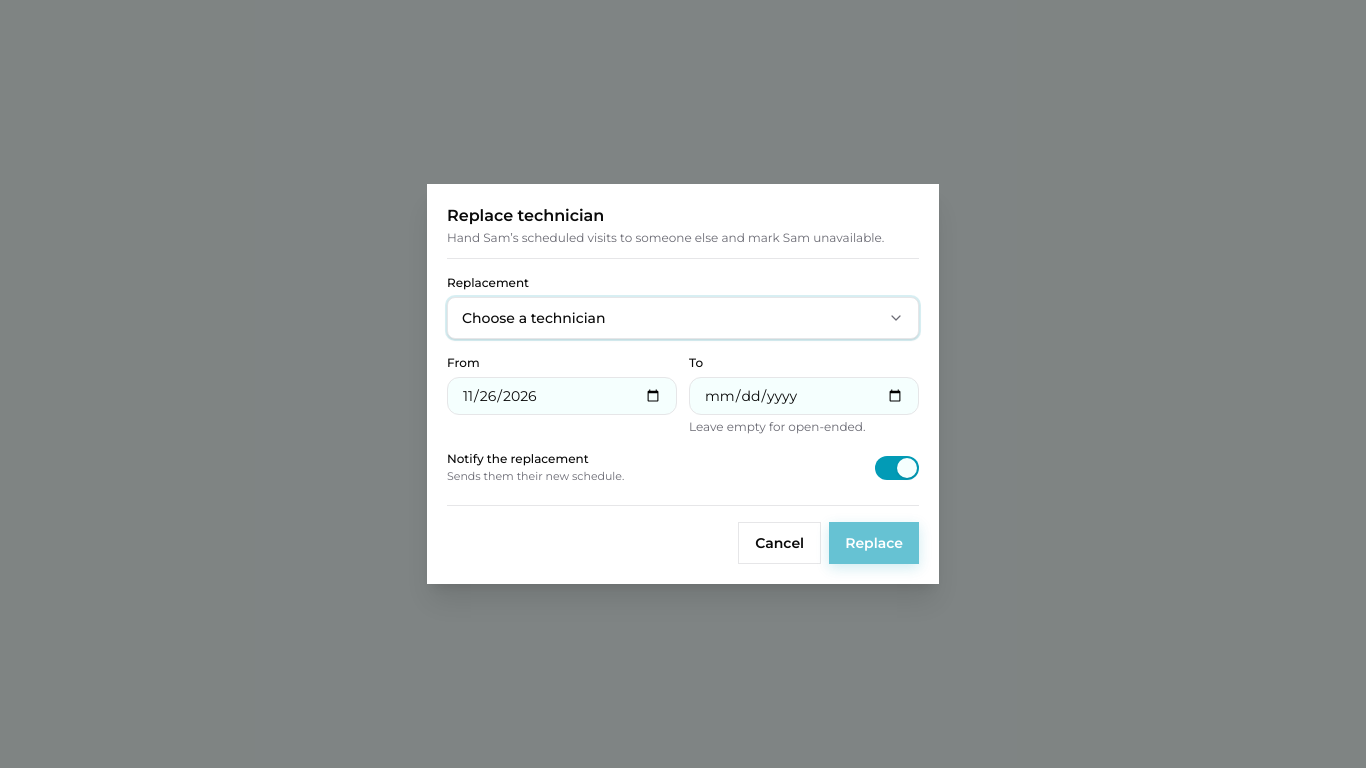
Scenario: ReplaceTechnicianModal (GAP-030) › reassigns visits to the chosen technician
Expected: the date field named "From" holds "2026-11-26", [447,377,677,415]
Expected: the button "Replace" is disabled, [829,522,919,564]
Click the button with aria-label "Replacement".
click(534, 318)  # box [447,297,919,339]
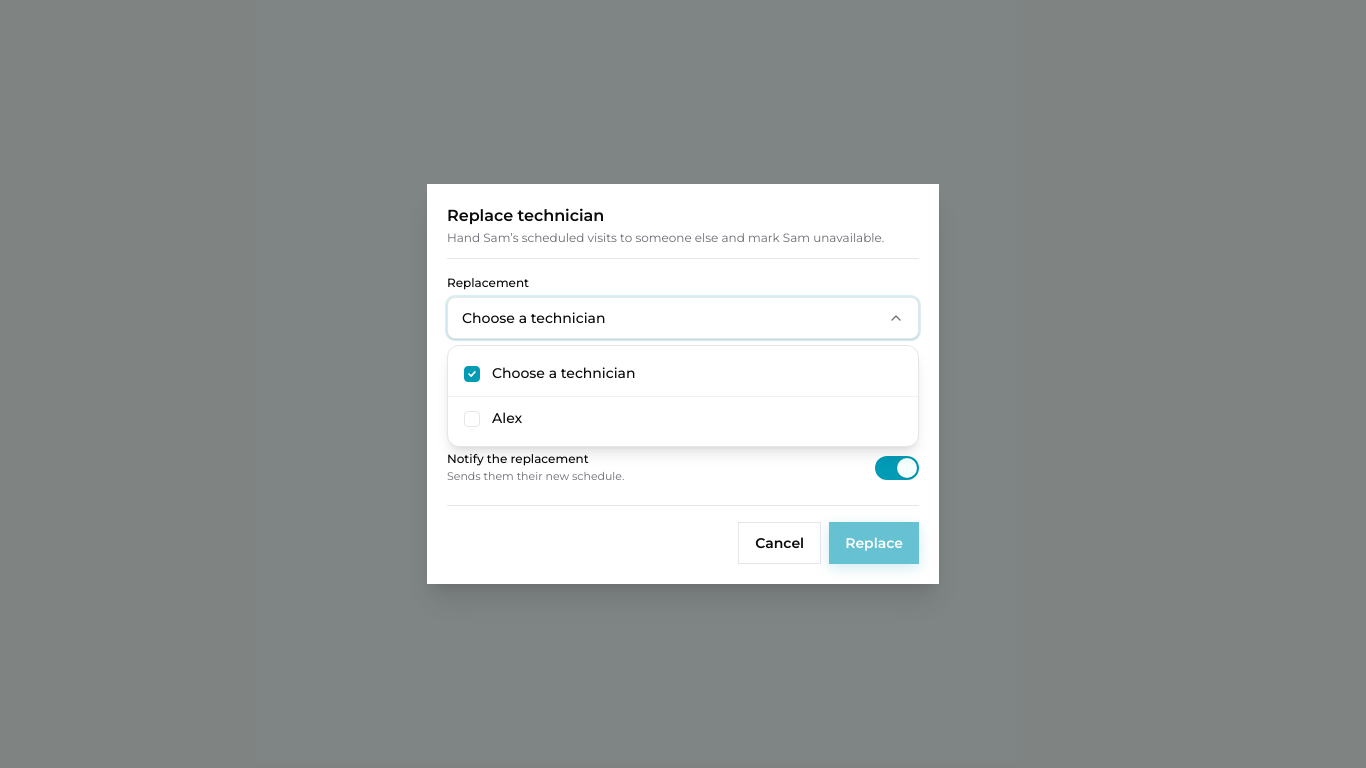
Click the option "Alex".
click(507, 418)  # box [448,397,918,440]
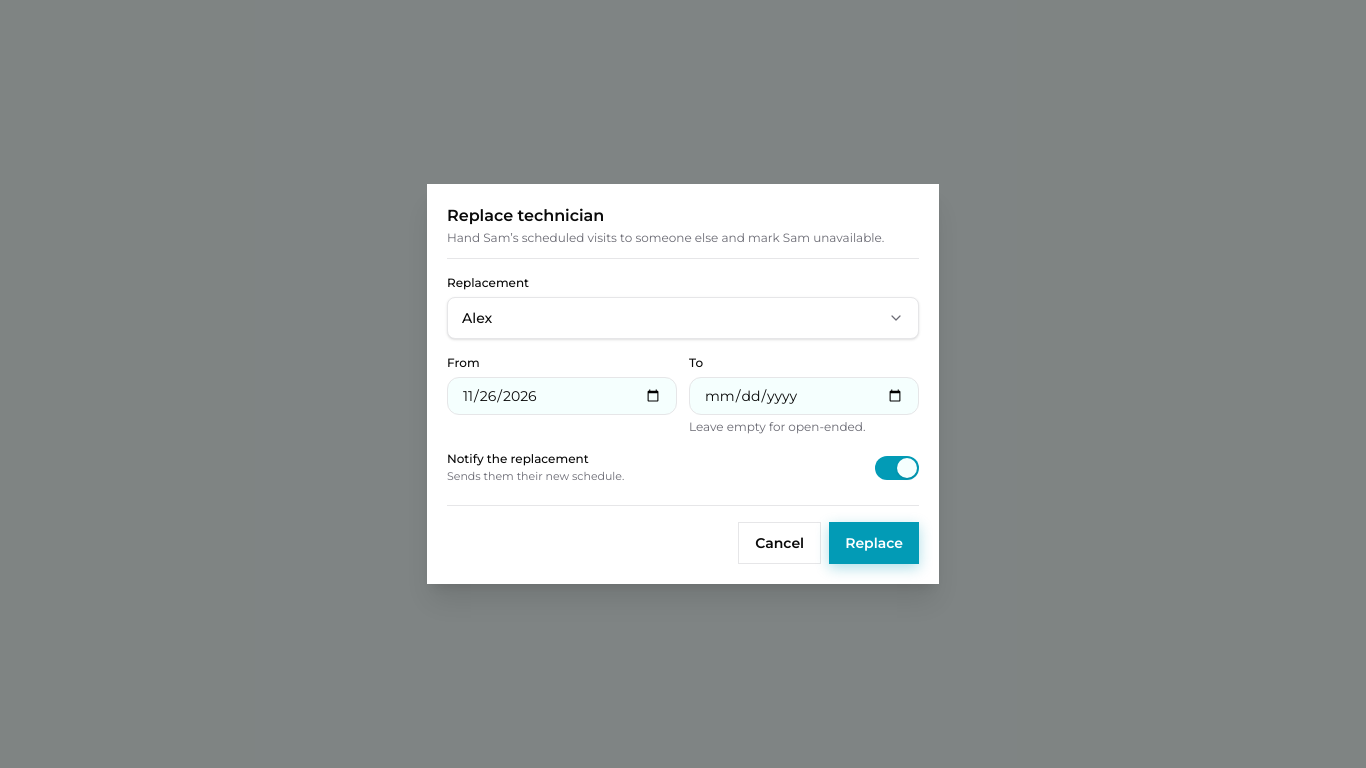
Type "2026-11-02" into the date field named "From".
click(562, 396); type("2026-11-02")  # box [447,377,677,415]
Type "2026-11-06" into the date field named "To".
click(804, 396); type("2026-11-06")  # box [689,377,919,415]
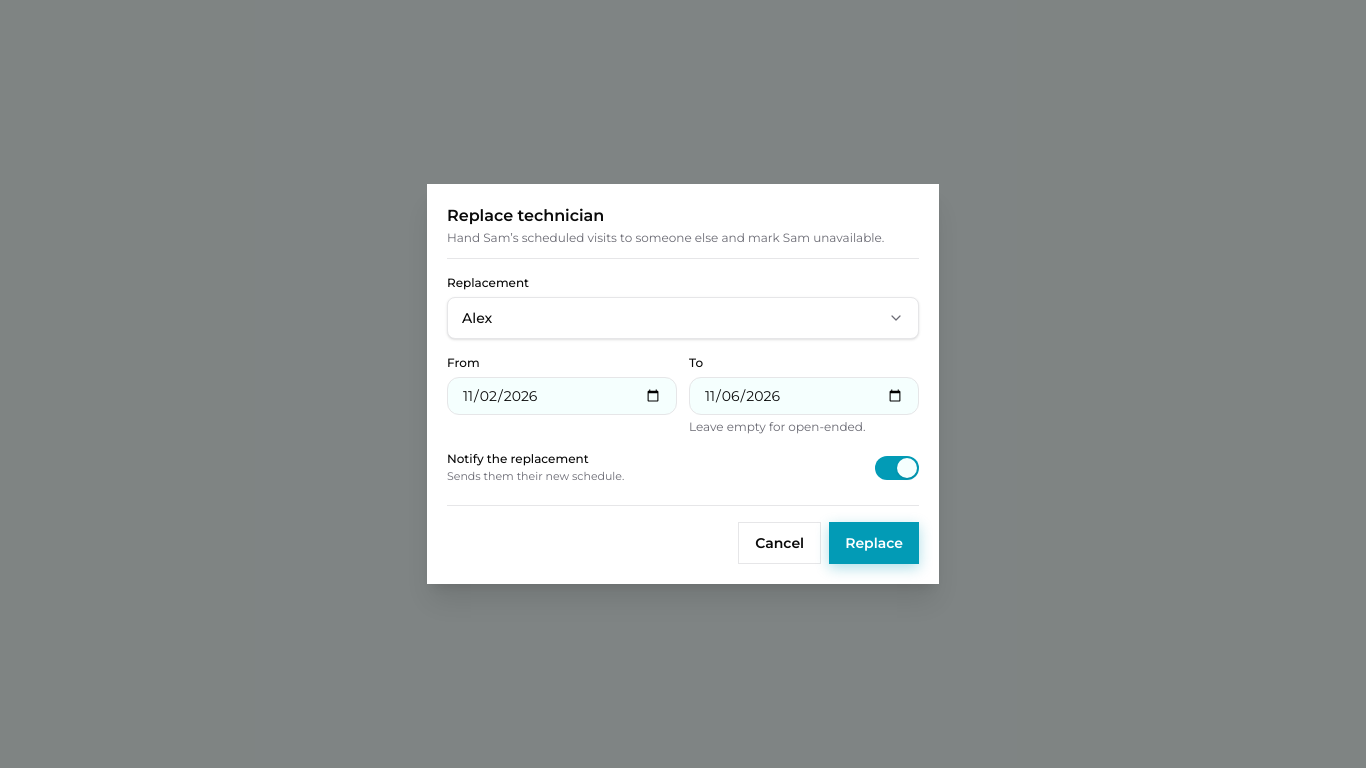
Click the switch named "Notify the replacement".
click(897, 468)  # box [875,456,919,480]
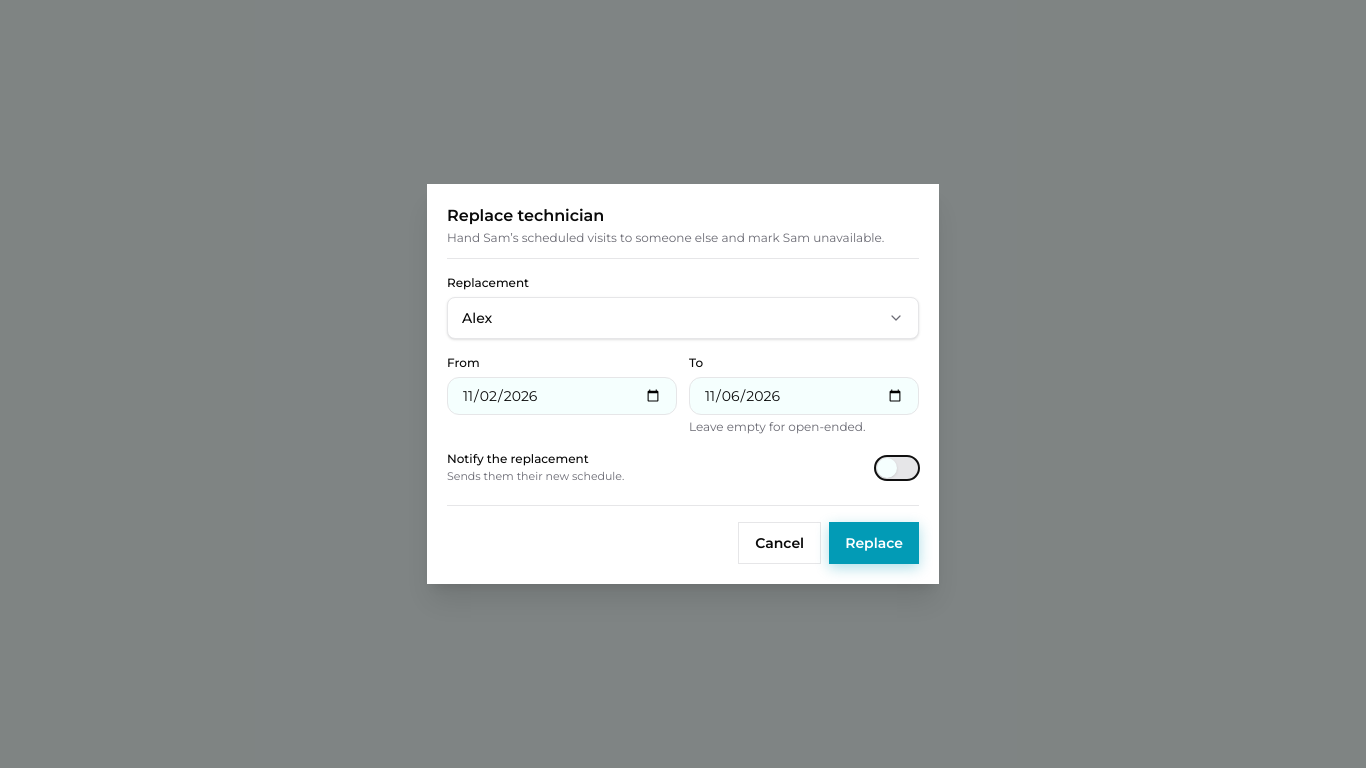
Click the button "Replace".
click(874, 543)  # box [829,522,919,564]
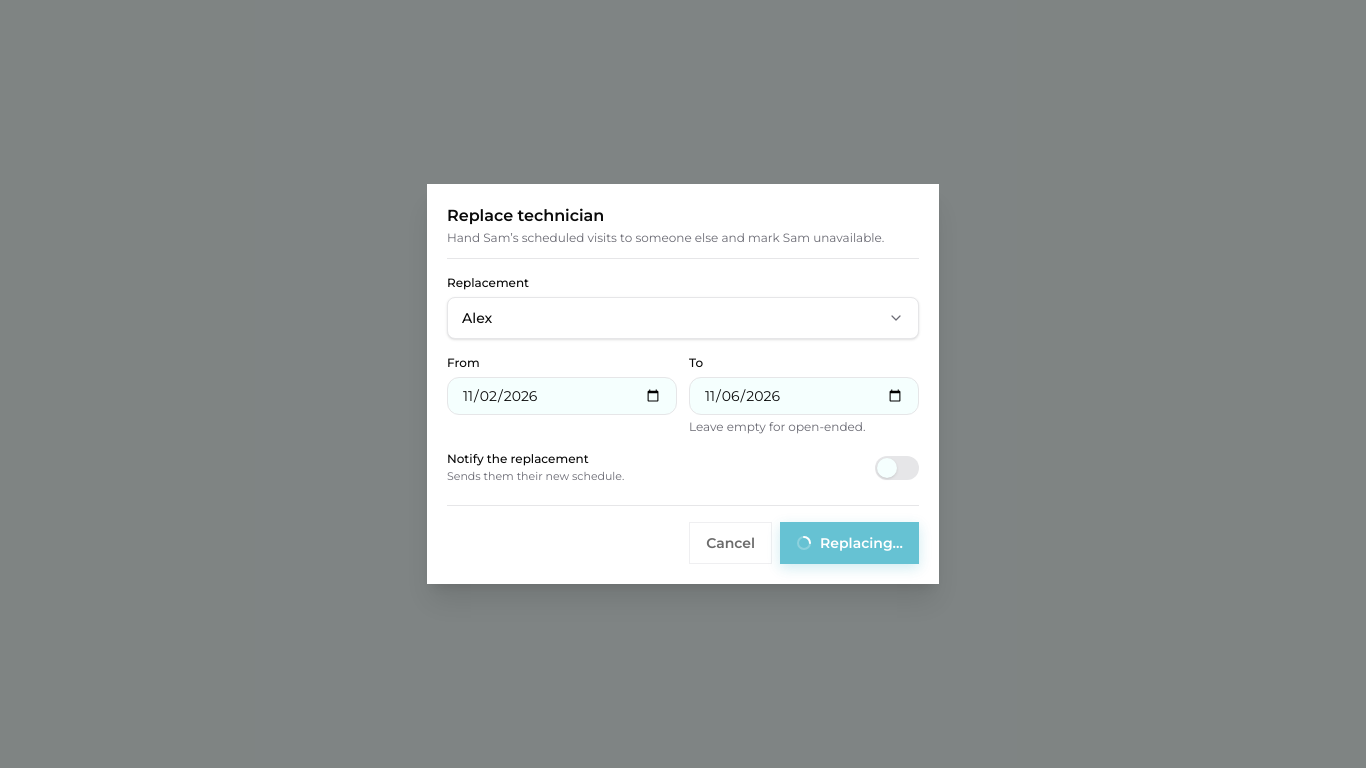
Expected: the button "Replacing…" is shown, [780,522,919,564]
Press Escape
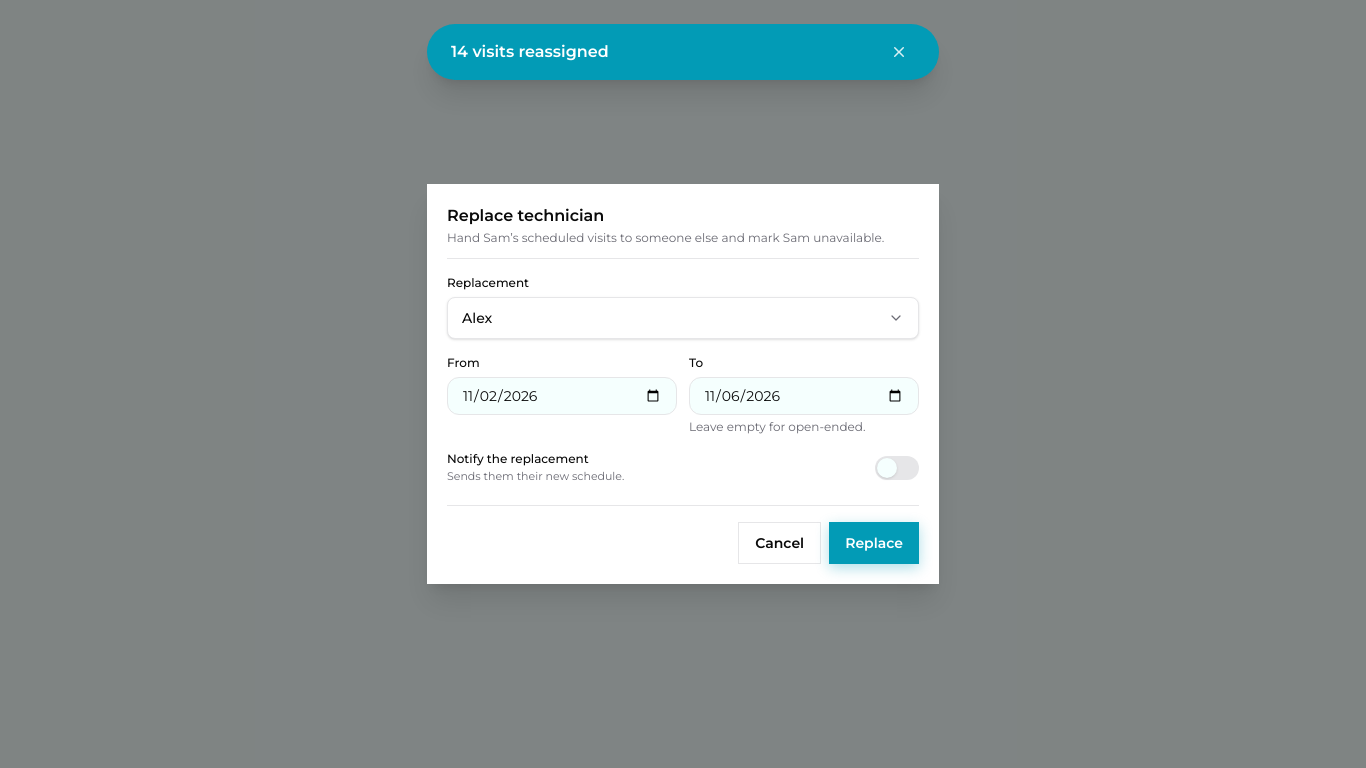
Expected: the text "14 visits reassigned" is shown, [451,40,609,64]
